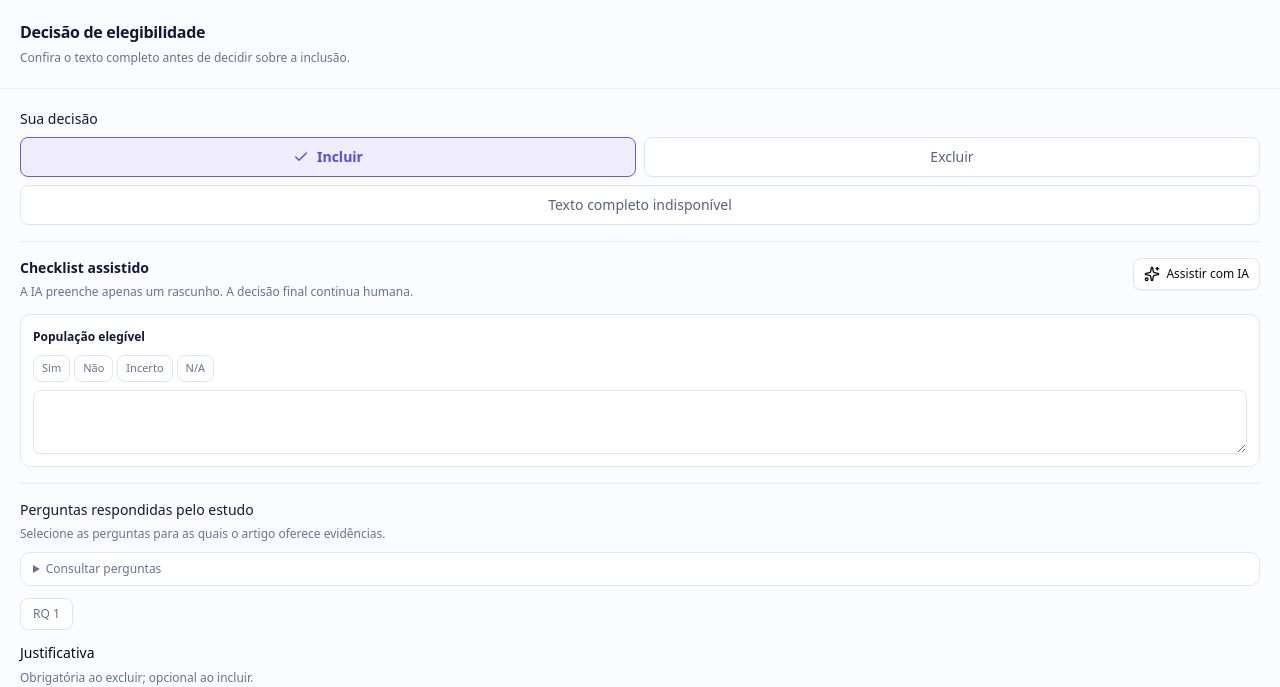
Scenario: EligibilityDecisionTool › applies AI evidence as a labeled draft without submitting
Click the button "Assistir com IA": (1197, 274) [1133,258,1260,290]
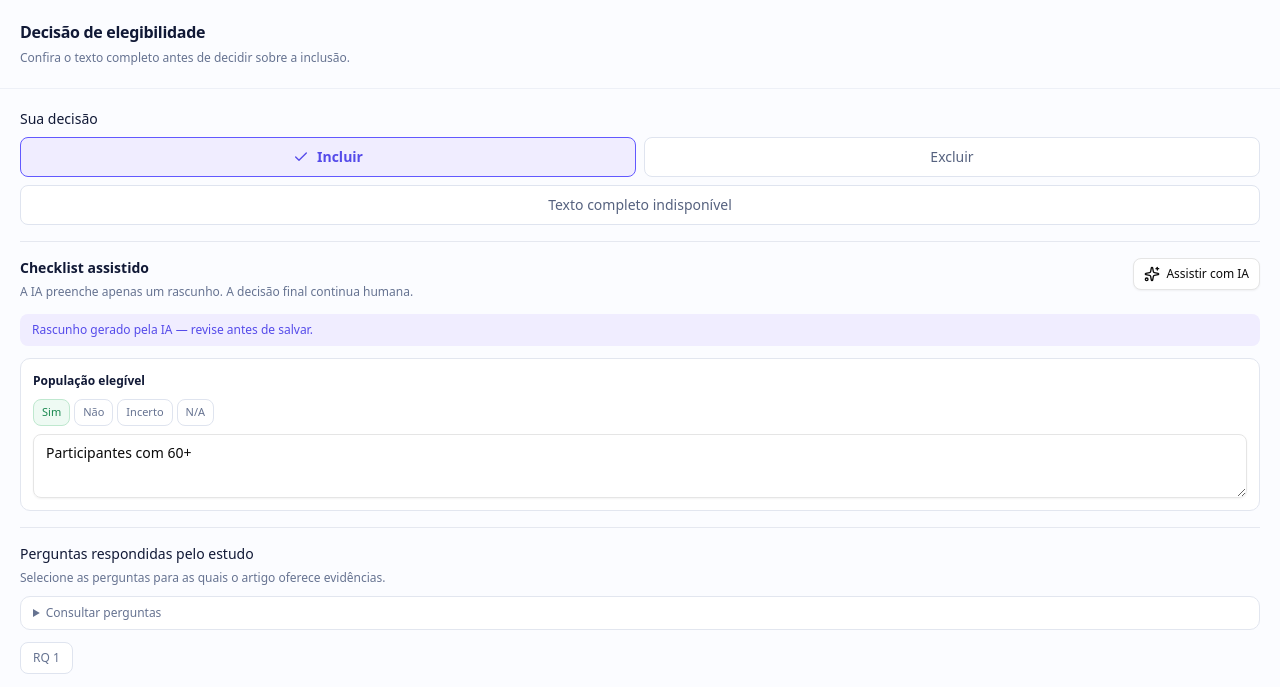
Expected: the text "Rascunho gerado pela IA — revise antes de salvar." is shown, [20,314,1260,346]
Expected: the text box named "Evidência: População elegível" holds "Participantes com 60+", [33,434,1247,498]
